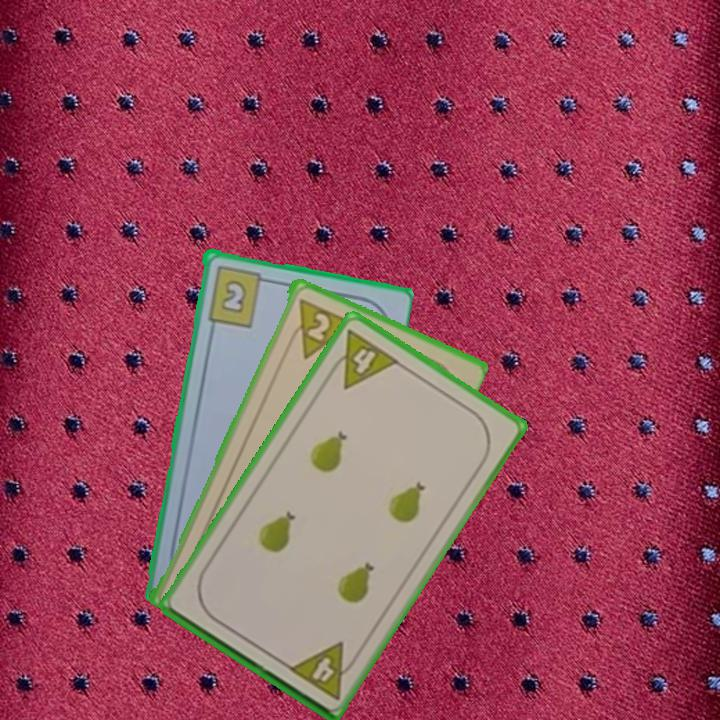2b: (204, 261, 273, 329)
2p: (284, 294, 354, 361)
4p: (323, 326, 402, 392), (284, 638, 362, 703)
